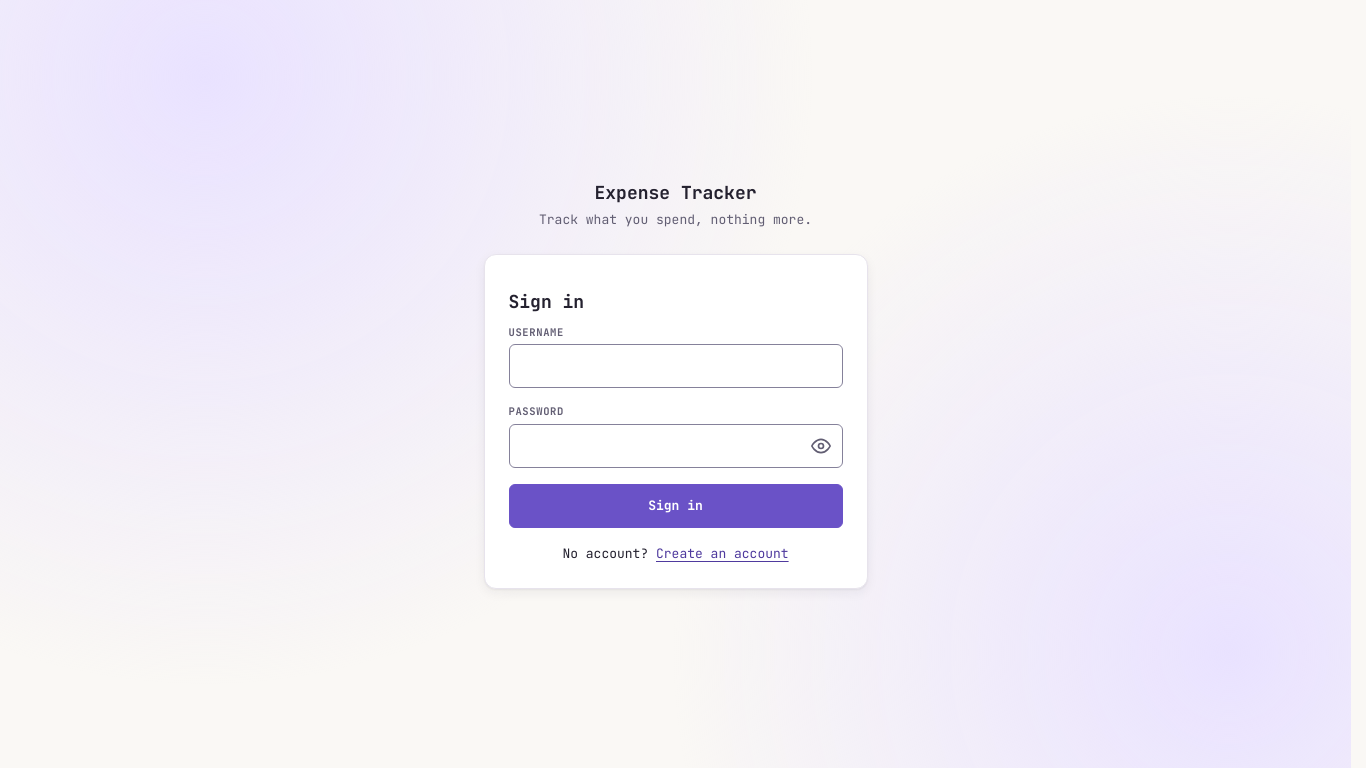
it: login › shows a generic message on 401
Check: the heading "Sign in" is shown, box left=508, top=290, right=584, bottom=313
Type "bob" into the field labelled "Username". click: {"x": 676, "y": 366}
box: left=508, top=344, right=842, bottom=388
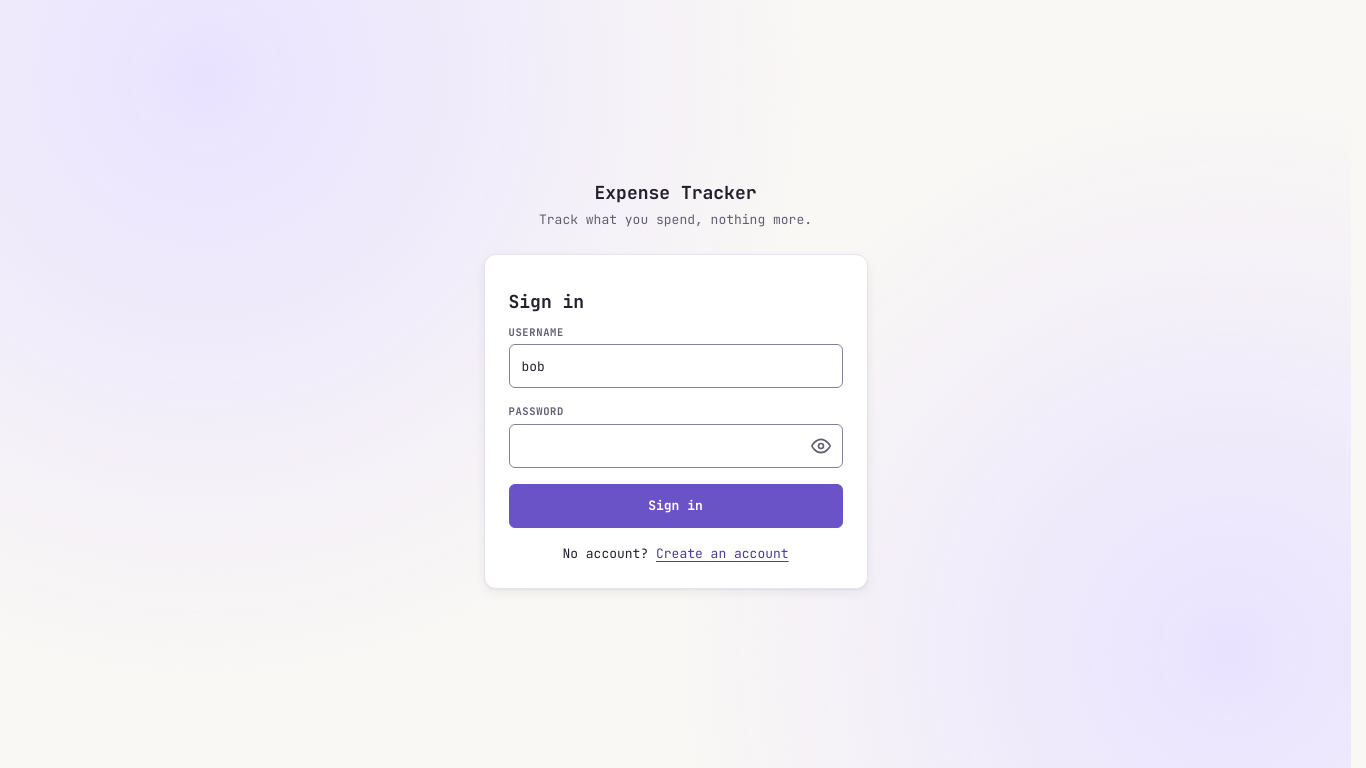
Type "wrong" into the password field labelled "Password". click: {"x": 676, "y": 446}
box: left=508, top=424, right=842, bottom=468
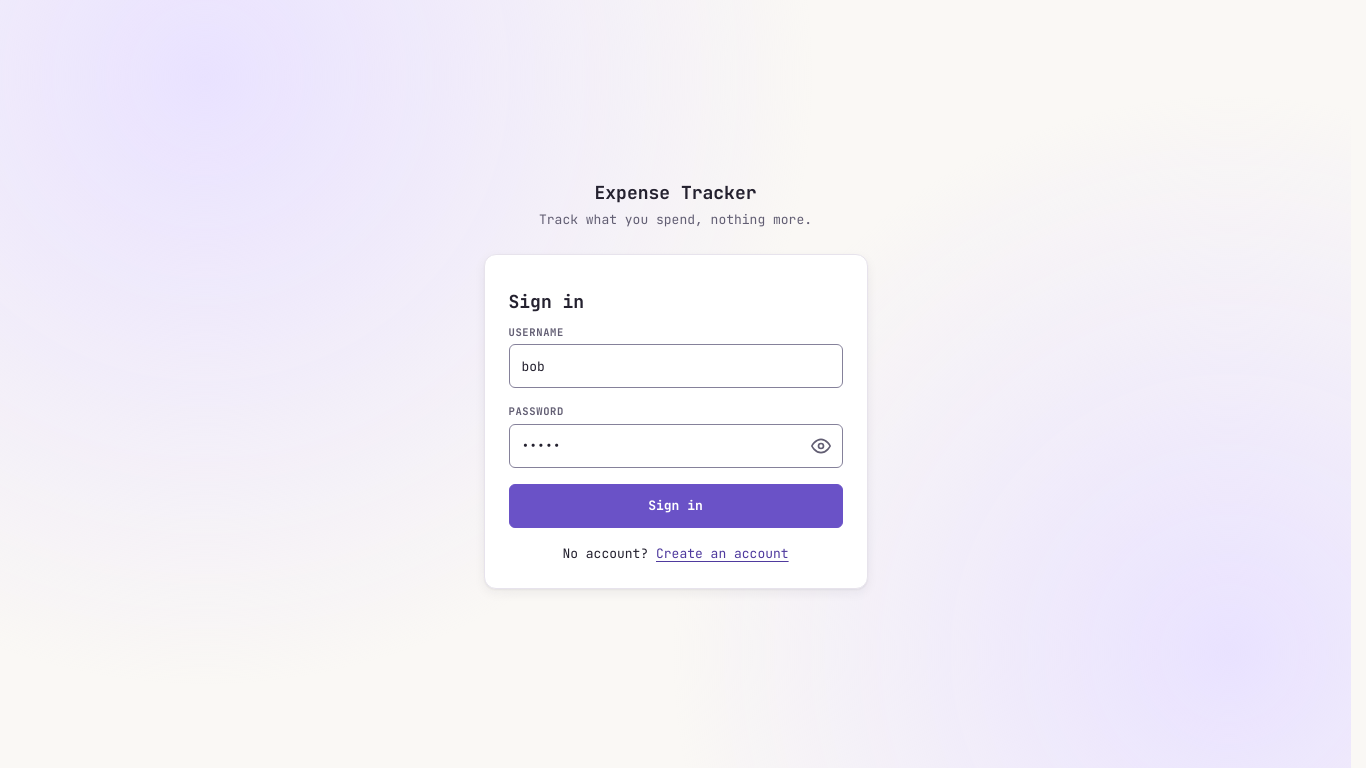
Click the button "Sign in". click: {"x": 676, "y": 506}
box: left=508, top=484, right=842, bottom=528
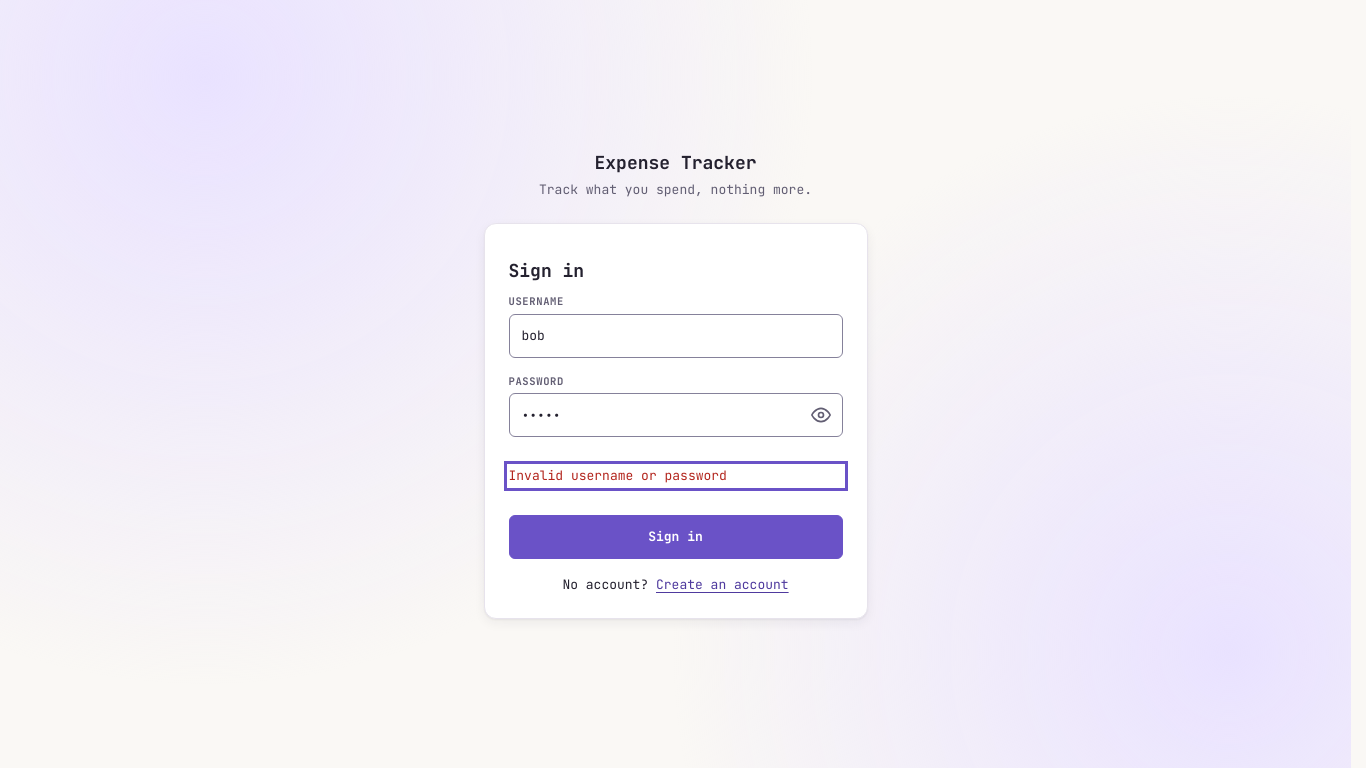
Check: the message reads "Invalid username or password", box left=508, top=467, right=727, bottom=484
